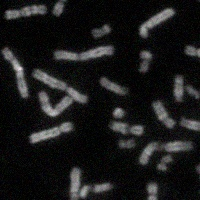chromosome: (32, 69, 87, 102), (2, 48, 28, 98), (139, 141, 192, 164), (138, 7, 173, 38), (30, 121, 74, 142), (37, 91, 72, 116), (55, 45, 112, 60), (5, 3, 45, 19), (153, 100, 174, 127), (80, 183, 116, 198), (100, 77, 130, 94), (110, 120, 143, 135), (70, 168, 80, 200), (137, 50, 150, 73), (53, 0, 70, 17), (146, 183, 163, 200), (179, 117, 200, 130), (174, 74, 183, 101), (117, 137, 137, 149), (185, 46, 200, 61), (186, 85, 200, 100), (93, 25, 109, 38), (157, 156, 170, 172), (196, 165, 200, 195), (112, 108, 123, 118), (198, 0, 200, 1)
